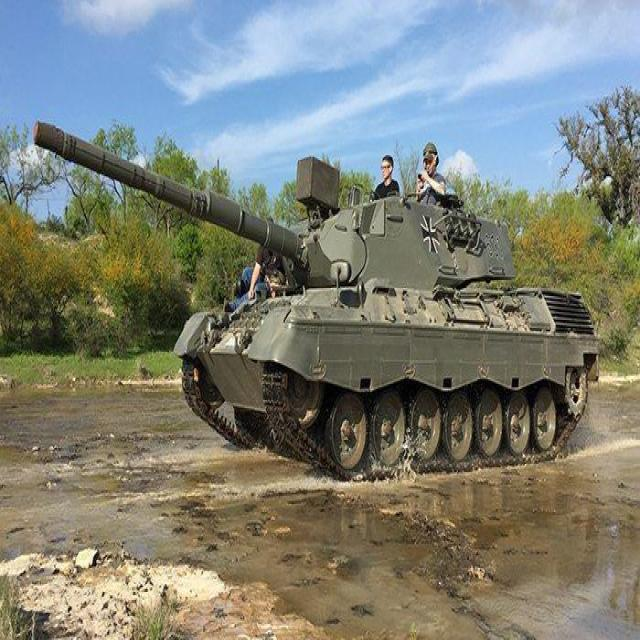Tanks: (31, 99, 612, 467)
